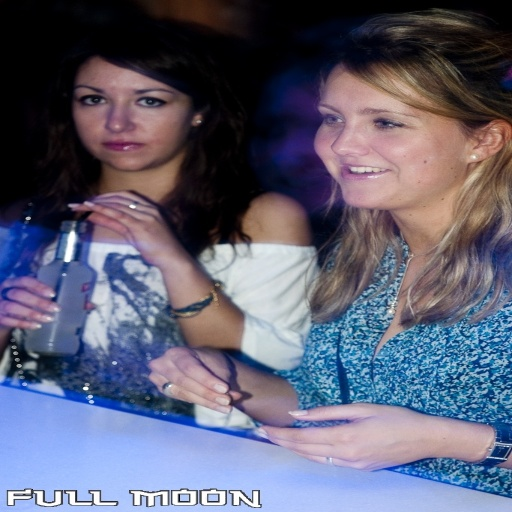hand: (214, 399, 506, 477), (65, 188, 191, 266), (143, 345, 247, 415), (0, 275, 97, 339)
